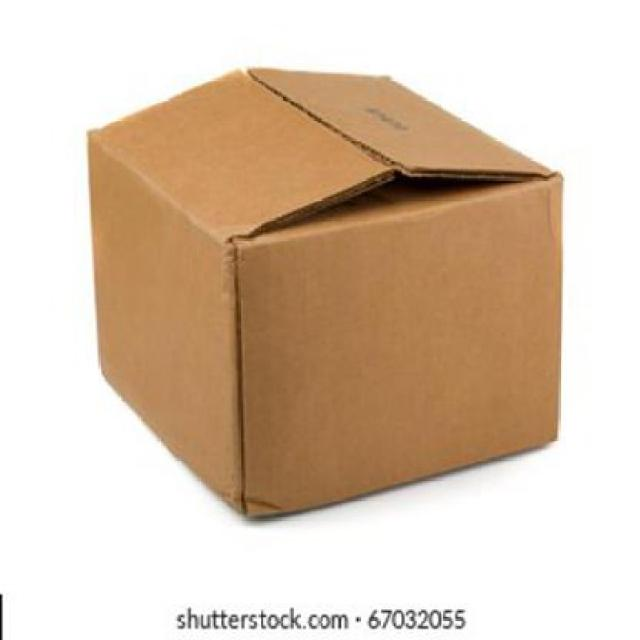defect: (71, 66, 566, 522)
